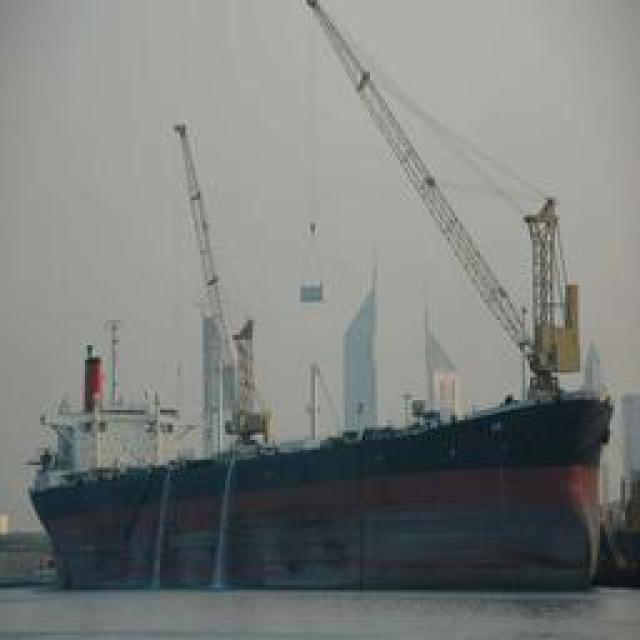Ship: (16, 399, 626, 599)
